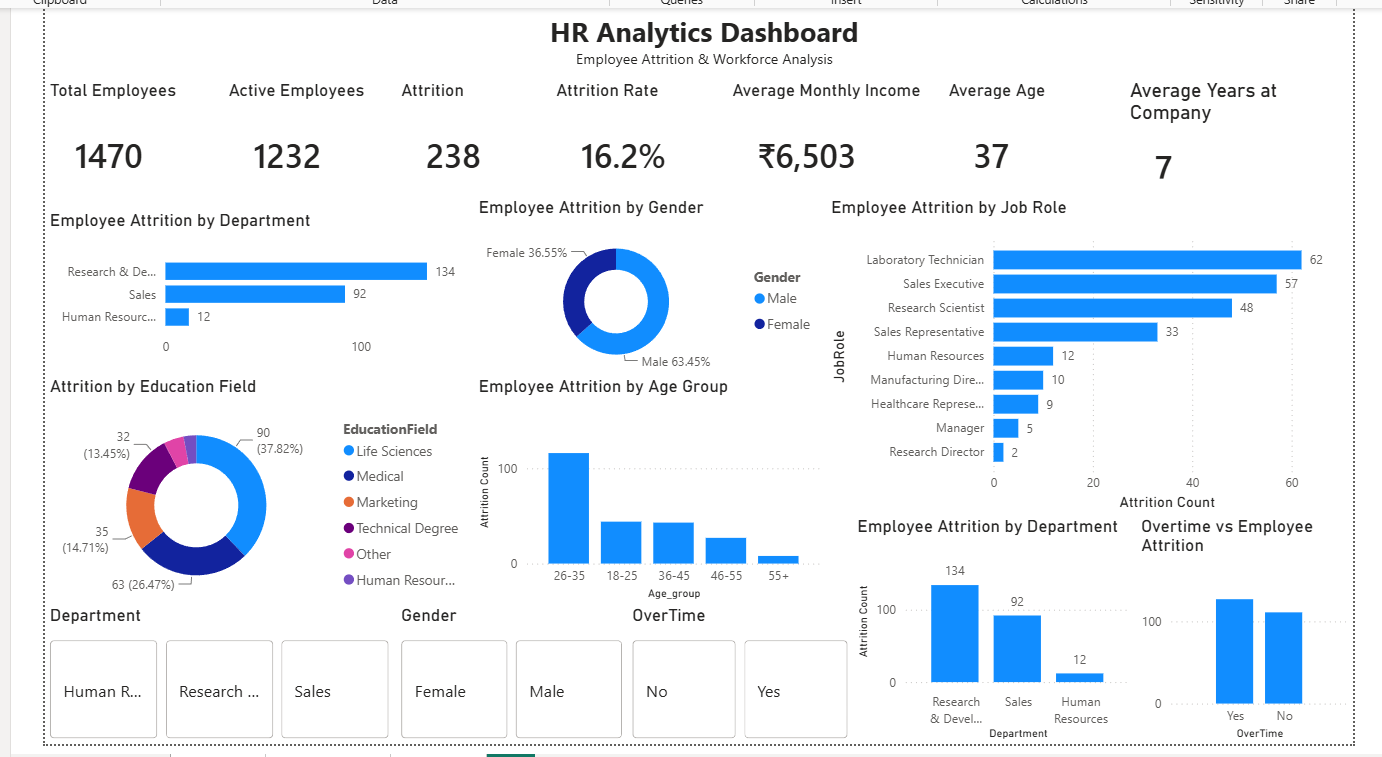

The dashboard page shown, as its layout file describes it:
{"tool":"powerbi","page":{"name":"Dashboard","canvas":[1280,720],"ordinal":1},"visuals":[{"type":"textbox","box":[9.8,0,1270.5,69.7],"z":0},{"type":"cardVisual","title":"Total Employees","fields":{"Data":["HR Data.Total_Employees"]},"box":[0,69.7,174.9,114.9],"z":1000},{"type":"cardVisual","title":"Active Employees","fields":{"Data":["HR Data.Active_Employees"]},"box":[174.9,69.7,168.8,114.9],"z":2000},{"type":"cardVisual","title":"Attrition","fields":{"Data":["HR Data.Attraction_count"]},"box":[343.6,69.7,151.6,114.9],"z":3000},{"type":"cardVisual","title":"Attrition Rate","fields":{"Data":["HR Data.Attraction_rate"]},"box":[495.2,69.7,172.4,114.9],"z":4000},{"type":"cardVisual","title":"Average Monthly Income","fields":{"Data":["HR Data.Average_salary"]},"box":[667.7,69.7,200.5,114.9],"z":5000},{"type":"cardVisual","title":"Average Age","fields":{"Data":["HR Data.Average_age"]},"box":[879.2,69.7,177.3,114.9],"z":6000},{"type":"cardVisual","title":"Average Years at Company","fields":{"Data":["HR Data.Average_Year_at_company"]},"box":[1056.5,69.7,223.8,114.9],"z":7000},{"type":"clusteredBarChart","title":"Employee Attrition by Department","fields":{"Category":["HR Data.Department"],"Y":["HR Data.Attraction_count"]},"box":[0,196.9,419.4,152.9],"z":8000},{"type":"donutChart","title":"Employee Attrition by Gender","fields":{"Y":["HR Data.Attrition Employees"],"Category":["HR Data.Gender"]},"box":[419.4,184.6,344.8,174.9],"z":9000},{"type":"clusteredBarChart","title":"Employee Attrition by Job Role","fields":{"Category":["HR Data.JobRole"],"Y":["HR Data.Attraction_count"]},"box":[764.3,184.6,516,311.8],"z":10000},{"type":"donutChart","title":"Attrition by Education Field","fields":{"Category":["HR Data.EducationField"],"Y":["HR Data.Attraction_count"]},"box":[0,359.5,419.4,223.8],"z":11000},{"type":"clusteredColumnChart","title":"Employee Attrition by Age Group","fields":{"Category":["HR Data.Age_group"],"Y":["HR Data.Attraction_count"]},"box":[419.4,359.5,344.8,223.8],"z":12000},{"type":"columnChart","title":"Overtime vs Employee Attrition","fields":{"Category":["HR Data.OverTime"],"Y":["HR Data.Attraction_count"]},"box":[1067.5,496.5,212.8,223.8],"z":13000},{"type":"advancedSlicerVisual","fields":{"Values":["HR Data.Department"]},"box":[0,583.3,343.6,137],"z":14000},{"type":"advancedSlicerVisual","fields":{"Values":["HR Data.Gender"]},"box":[343.6,583.3,226.2,137],"z":15000},{"type":"advancedSlicerVisual","fields":{"Values":["HR Data.OverTime"]},"box":[569.8,583.3,220.1,137],"z":16000},{"type":"clusteredColumnChart","title":"Employee Attrition by Department","fields":{"Category":["HR Data.Department"],"Y":["HR Data.Attraction_count"]},"box":[789.9,496.5,277.6,223.8],"z":17000}]}

Visuals, with their boxes on the page's 1280x720 design canvas (x1, y1, x2, y2). These are canvas units, not pixel positions in the 1382x757 screenshot, which may show the page scaled, cropped or inside an application window:
textbox: 10:0:1280:70
"Total Employees" cardVisual: 0:70:175:185
"Active Employees" cardVisual: 175:70:344:185
"Attrition" cardVisual: 344:70:495:185
"Attrition Rate" cardVisual: 495:70:668:185
"Average Monthly Income" cardVisual: 668:70:868:185
"Average Age" cardVisual: 879:70:1056:185
"Average Years at Company" cardVisual: 1056:70:1280:185
"Employee Attrition by Department" clusteredBarChart: 0:197:419:350
"Employee Attrition by Gender" donutChart: 419:185:764:360
"Employee Attrition by Job Role" clusteredBarChart: 764:185:1280:496
"Attrition by Education Field" donutChart: 0:360:419:583
"Employee Attrition by Age Group" clusteredColumnChart: 419:360:764:583
"Overtime vs Employee Attrition" columnChart: 1068:496:1280:720
advancedSlicerVisual - HR Data.Department: 0:583:344:720
advancedSlicerVisual - HR Data.Gender: 344:583:570:720
advancedSlicerVisual - HR Data.OverTime: 570:583:790:720
"Employee Attrition by Department" clusteredColumnChart: 790:496:1068:720
